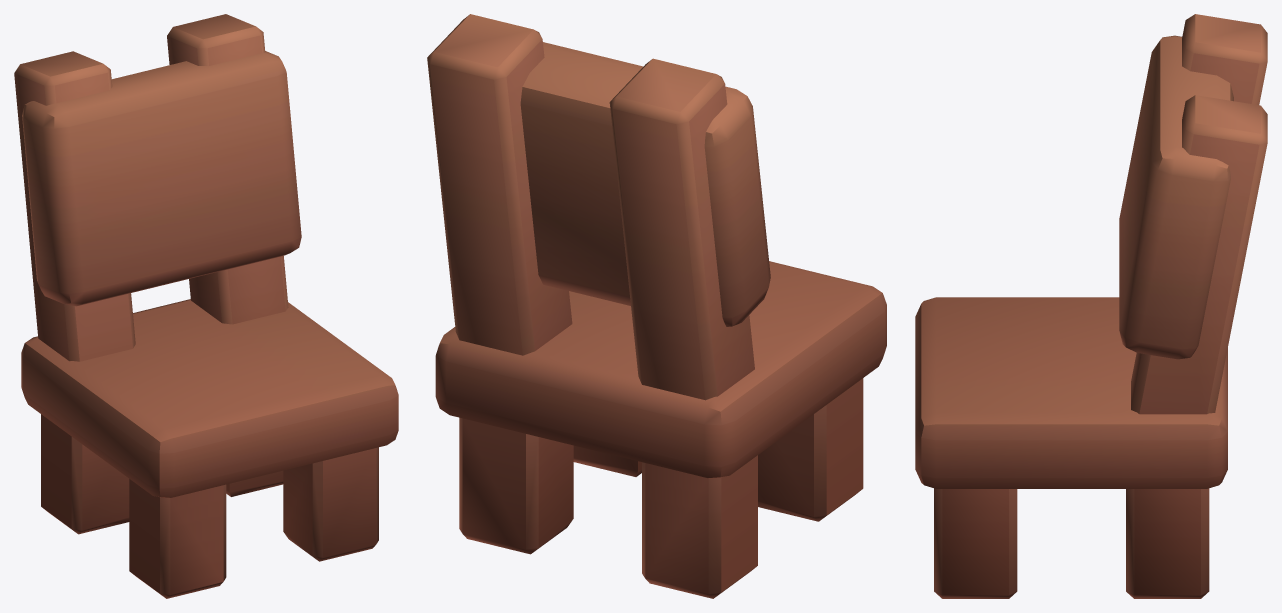
File: chair-b-wood.glb
3 views of the same model, side by side, from view 1: azimuth 30°, elevation 25°; view 2: azimuth 150°, elevation 25°; view 3: azimuth 270°, elevation 25° (orthographic). The views are drawn at different scales.
Visible parts, largest first — view 1: chair_B_wood; view 2: chair_B_wood; view 3: chair_B_wood.
Boxes of the visible parts, x1=… form: chair_B_wood: x1=14, y1=14, x2=398, y2=598; chair_B_wood: x1=427, y1=14, x2=886, y2=598; chair_B_wood: x1=915, y1=14, x2=1267, y2=598.
Size of the model in its own units: 0.75 by 1.26 by 0.8451.
1 material, 1 textured.
